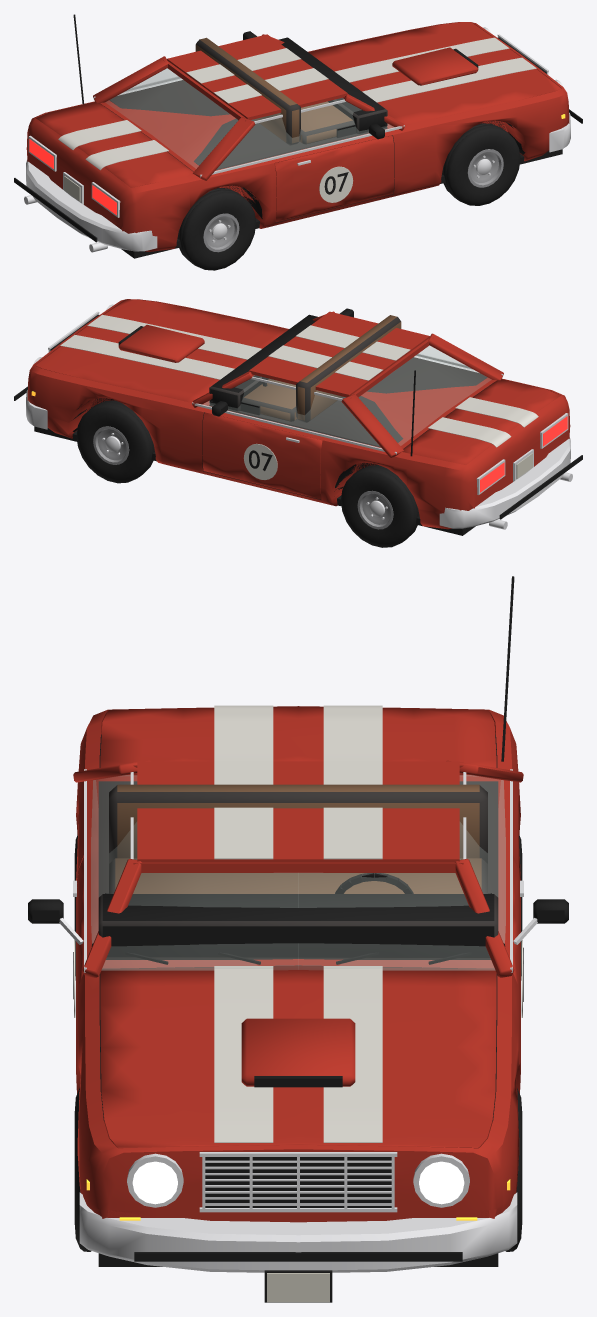
The model's file is car_coupe.glb.
The picture shows the model from 3 angles, top to bottom: view 1: azimuth 30°, elevation 25°; view 2: azimuth 150°, elevation 25°; view 3: azimuth 270°, elevation 25°; orthographic projection. The views are drawn at different scales.
Visible parts, largest first — view 1: body, interior, glass, hood, door_R, wheel_FR, wheel_RR, roof, trunk, pillars, bumper_R, hood_scoop (+14 smaller); view 2: body, interior, glass, hood, door_L, wheel_FL, wheel_RL, roof, trunk, pillars, bumper_R, hood_scoop (+14 smaller); view 3: interior, hood, body, glass, bumper_F, roof, trunk, black_details, chrome_details, pillars, stripe_hood_1, stripe_hood_-1 (+12 smaller).
Boxes of the visible parts, left/top/right/bottom form: body: left=26, top=22, right=569, bottom=251; interior: left=109, top=37, right=387, bottom=170; glass: left=106, top=68, right=393, bottom=170; hood: left=308, top=22, right=561, bottom=127; door_R: left=274, top=135, right=394, bottom=222; wheel_FR: left=442, top=123, right=520, bottom=205; wheel_RR: left=177, top=187, right=255, bottom=270; roof: left=167, top=34, right=347, bottom=119; trunk: left=36, top=102, right=194, bottom=187; pillars: left=93, top=34, right=404, bottom=180; bumper_R: left=26, top=160, right=157, bottom=251; hood_scoop: left=392, top=47, right=478, bottom=85; body: left=27, top=299, right=570, bottom=529; interior: left=209, top=314, right=487, bottom=447; glass: left=203, top=345, right=491, bottom=447; hood: left=35, top=299, right=287, bottom=404; door_L: left=202, top=412, right=322, bottom=499; wheel_FL: left=76, top=400, right=154, bottom=483; wheel_RL: left=340, top=465, right=419, bottom=547; roof: left=249, top=311, right=429, bottom=397; trunk: left=402, top=379, right=560, bottom=464; pillars: left=192, top=311, right=503, bottom=457; bumper_R: left=439, top=437, right=570, bottom=528; hood_scoop: left=118, top=324, right=204, bottom=362; interior: left=98, top=781, right=498, bottom=959; hood: left=100, top=965, right=496, bottom=1148; body: left=76, top=706, right=520, bottom=1222; glass: left=91, top=775, right=505, bottom=970; bumper_F: left=79, top=1192, right=517, bottom=1272; roof: left=137, top=761, right=459, bottom=862; trunk: left=100, top=706, right=496, bottom=767; black_details: left=28, top=576, right=568, bottom=1302; chrome_details: left=59, top=880, right=537, bottom=1212; pillars: left=73, top=760, right=523, bottom=977; stripe_hood_1: left=323, top=966, right=382, bottom=1142; stripe_hood_-1: left=214, top=966, right=273, bottom=1142.
Size of the model in its own units: 5.36 by 1.95 by 2.57.
